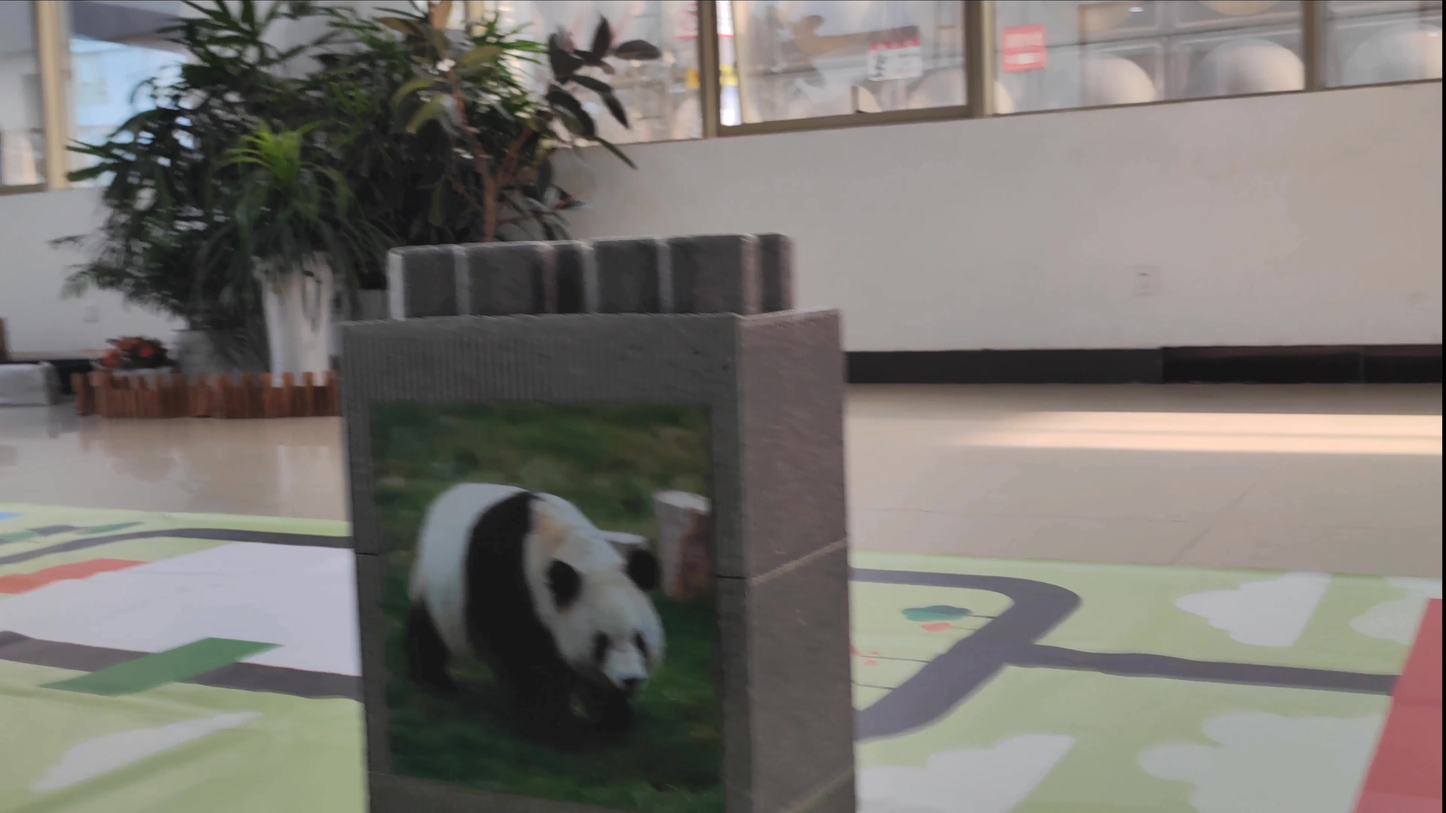panda: (375, 446, 706, 756)
